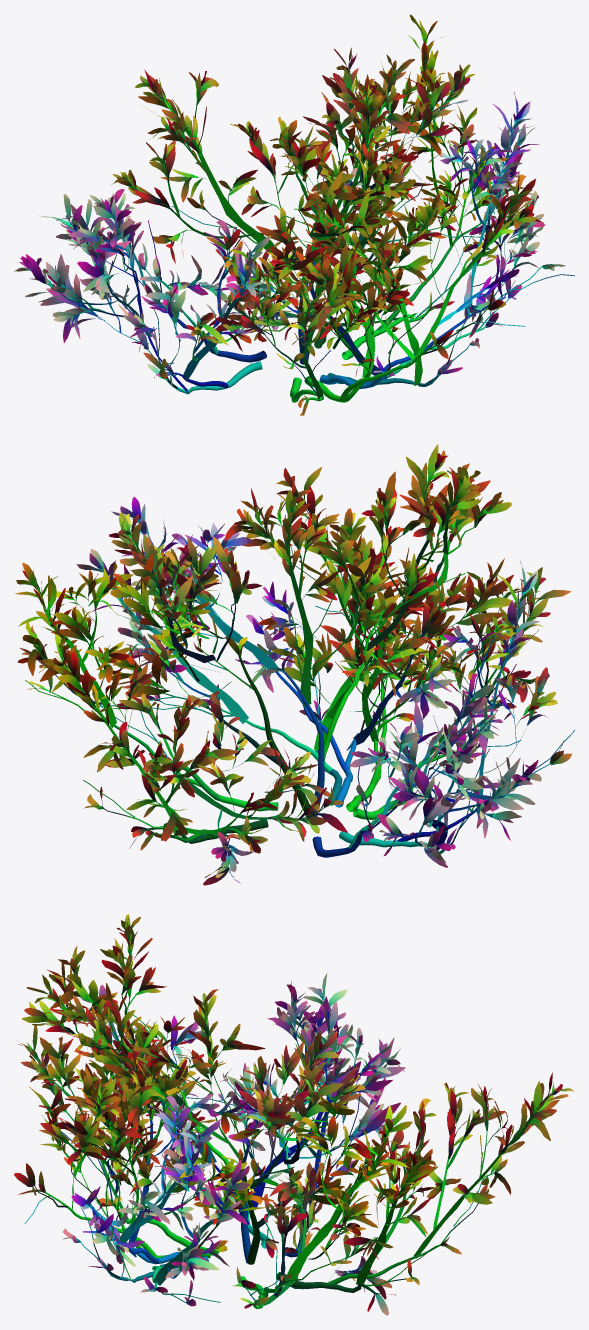
Rendered from Tola_VarF_LOD1.fbx.
3 views of the same model, one above another, from view 1: azimuth 30°, elevation 25°; view 2: azimuth 150°, elevation 25°; view 3: azimuth 270°, elevation 25° (orthographic). The views are drawn at different scales.
Parts seen in each view (by area): view 1: _miaw_VarF_LOD2; view 2: _miaw_VarF_LOD2; view 3: _miaw_VarF_LOD2.
Boxes of the visible parts, x1=… form: _miaw_VarF_LOD2: x1=14, y1=14, x2=574, y2=415; _miaw_VarF_LOD2: x1=14, y1=444, x2=574, y2=885; _miaw_VarF_LOD2: x1=14, y1=914, x2=574, y2=1315.
Size of the model in its own units: 1.9 by 1.25 by 1.93.
